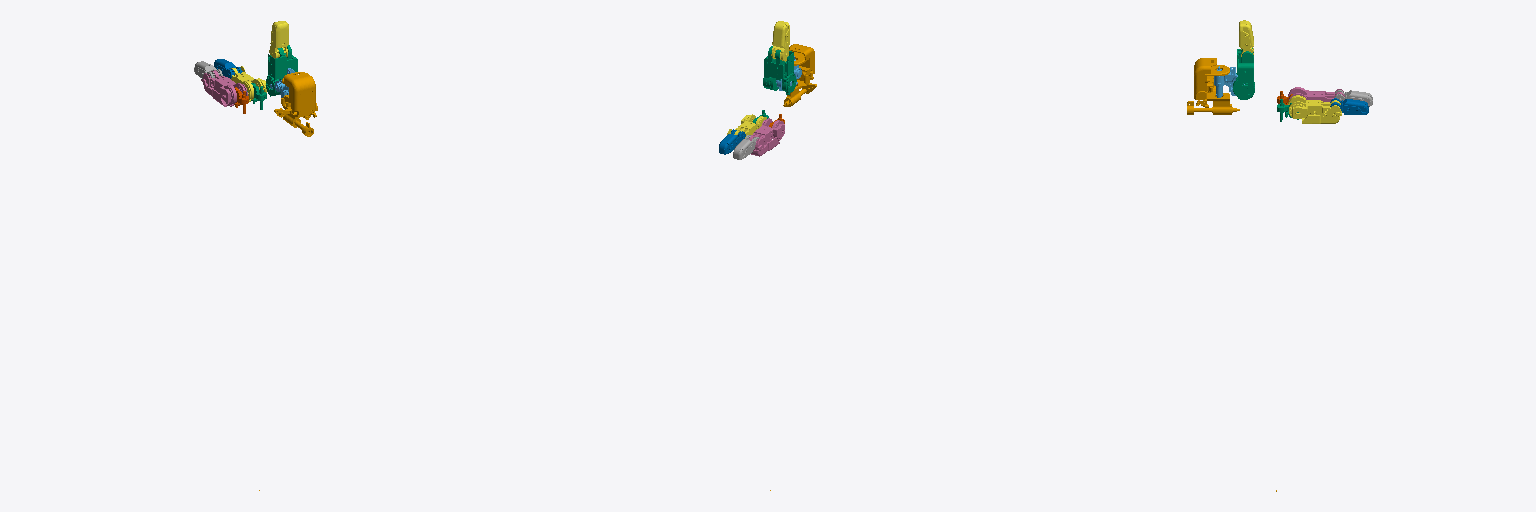
The robot description file, URDF, robot "hand_robot":
<?xml version="1.0" ?>

<robot name="hand_robot">

  <link name="base_link">
    <visual>
      <origin rpy="0 0 0" xyz="0 0 -0.5"/>
      <geometry>
        <box size="0.001 0.001 0.001"/>
      </geometry>
    </visual>
    <collision>
      <origin rpy="0 0 0" xyz="0 0 -0.5"/>
      <geometry>
        <box size="0.001 0.001 0.001"/>
      </geometry>
    </collision>
    <inertial>
      <mass value="1.0"/>
      <inertia ixx="10" ixy="0" ixz="0" iyy="10" iyz="0" izz="10"/>
    </inertial>
  </link>
  <joint name="hand_joint" type="fixed">
    <origin rpy="0 0 -1.57" xyz="0 -0.07 0.0"/>
    <parent link="base_link"/>
    <child link="hand_base_link"/>
  </joint>

  <!-- Base link -->
  <link name="hand_base_link">
    <visual>
      <origin rpy="0 0 0" xyz="0 0 0"/>
      <geometry>
        <mesh filename="package://wbr_description/meshes/hand/R_hand.STL" scale="0.001 0.001 0.001"/>
      </geometry>
      <material name="black">
        <color rgba="0.7 0.7 0.7 1"/>
      </material>
    </visual>
    <collision>
      <origin rpy="0 0 0" xyz="0 0 0"/>
      <geometry>
        <mesh filename="package://wbr_description/meshes/hand/R_hand.stl" scale="0.0007 0.0007 0.0007"/>
      </geometry>
    </collision>
    <inertial>
      <origin rpy="0 0 0" xyz="0 0 0"/>
      <mass value="0.25"/>
      <inertia ixx="10" ixy="0" ixz="0" iyy="10" iyz="0" izz="10"/>
    </inertial>
  </link>

  <!-- Index finger -->
  <link name="index_finger_1">
    <visual>
      <origin rpy="0 0 0" xyz="0 0 0"/>
      <geometry>
        <mesh filename="package://wbr_description/meshes/hand/R_first_finger_F3.STL" scale="0.001 0.001 0.001"/>
      </geometry>
    </visual>
    <collision>
      <origin rpy="0 0 0" xyz="0 0 0"/>
      <geometry>
        <mesh filename="package://wbr_description/meshes/hand/R_first_finger_F3.stl" scale="0.001 0.001 0.001"/>
      </geometry>
    </collision>
    <inertial>
      <origin rpy="0 0 0" xyz="0 0 0"/>
      <mass value="0.05"/>
      <inertia ixx="10" ixy="0" ixz="0" iyy="10" iyz="0" izz="10"/>
    </inertial>
  </link>

  <joint name="index_joint_1" type="revolute">
    <parent link="hand_base_link"/>
    <child link="index_finger_1"/>
    <origin rpy="3.14 0 0" xyz="-0.076 0.0067 0.0175"/>
    <axis xyz="0 0 1"/>
    <limit lower="-0.174" upper="1.57" effort="1.0" velocity="1.0"/>
  </joint>

  <link name="index_finger_2">
    <visual>
      <origin rpy="0 0 0" xyz="0 0 0"/>
      <geometry>
        <mesh filename="package://wbr_description/meshes/hand/R_first_finger_F2.STL" scale="0.001 0.001 0.001"/>
      </geometry>
    </visual>
    <collision>
      <origin rpy="0 0 0" xyz="0 0 0"/>
      <geometry>
        <mesh filename="package://wbr_description/meshes/hand/R_first_finger_F2.stl" scale="0.001 0.001 0.001"/>
      </geometry>
    </collision>
    <inertial>
      <origin rpy="0 0 0" xyz="0 0 0"/>
      <mass value="0.03"/>
      <inertia ixx="10" ixy="0" ixz="0" iyy="10" iyz="0" izz="10"/>
    </inertial>
  </link>

  <joint name="index_joint_2" type="revolute">
    <parent link="index_finger_1"/>
    <child link="index_finger_2"/>
    <origin rpy="0 1.57 -1.57" xyz="-0.02 0 0"/>
    <axis xyz="0 0 1"/>
    <limit lower="-0.523" upper="1.57" effort="1.0" velocity="1.0"/>
  </joint>

  <link name="index_finger_3">
    <visual>
      <origin rpy="0 0 0" xyz="0 0 0"/>
      <geometry>
        <mesh filename="package://wbr_description/meshes/hand/R_first_finger_F1.STL" scale="0.001 0.001 0.001"/>
      </geometry>
    </visual>
    <collision>
      <origin rpy="0 0 0" xyz="0 0 0"/>
      <geometry>
        <mesh filename="package://wbr_description/meshes/hand/R_first_finger_F1.stl" scale="0.0007 0.0007 0.0007"/>
      </geometry>
    </collision>
    <inertial>
      <origin rpy="0 0 0" xyz="0 0 0"/>
      <mass value="0.03"/>
      <inertia ixx="10" ixy="0" ixz="0" iyy="10" iyz="0" izz="10"/>
    </inertial>
  </link>

  <joint name="index_joint_3" type="revolute">
    <parent link="index_finger_2"/>
    <child link="index_finger_3"/>
    <origin rpy="0 0 0" xyz="0.003 -0.0455 0"/>
    <axis xyz="0 0 1"/>
    <limit lower="0" upper="2.44" effort="1.0" velocity="1.0"/>
  </joint>

  <!-- Middle finger -->
  <link name="middle_finger_1">
    <visual>
      <origin rpy="0 0 0" xyz="0 0 0"/>
      <geometry>
        <mesh filename="package://wbr_description/meshes/hand/R_middle_finger_F3.STL" scale="0.001 0.001 0.001"/>
      </geometry>
    </visual>
    <collision>
      <origin rpy="0 0 0" xyz="0 0 0"/>
      <geometry>
        <mesh filename="package://wbr_description/meshes/hand/R_middle_finger_F3.stl" scale="0.001 0.001 0.001"/>
      </geometry>
    </collision>
    <inertial>
      <origin rpy="0 0 0" xyz="0 0 0"/>
      <mass value="0.05"/>
      <inertia ixx="10" ixy="0" ixz="0" iyy="10" iyz="0" izz="10"/>
    </inertial>
  </link>

  <joint name="middle_joint_1" type="revolute">
    <parent link="hand_base_link"/>
    <child link="middle_finger_1"/>
    <origin rpy="3.14 0 0" xyz="-0.076 -0.0173 0.0175"/>
    <axis xyz="0 0 1"/>
    <limit lower="-1.57" upper="0.174" effort="1.0" velocity="1.0"/>
  </joint>

  <link name="middle_finger_2">
    <visual>
      <origin rpy="0 0 0" xyz="0 0 0"/>
      <geometry>
        <mesh filename="package://wbr_description/meshes/hand/R_middle_finger_F2.STL" scale="0.001 0.001 0.001"/>
      </geometry>
    </visual>
    <collision>
      <origin rpy="0 0 0" xyz="0 0 0"/>
      <geometry>
        <mesh filename="package://wbr_description/meshes/hand/R_middle_finger_F2.stl" scale="0.001 0.001 0.001"/>
      </geometry>
    </collision>
    <inertial>
      <origin rpy="0 0 0" xyz="0 0 0"/>
      <mass value="0.03"/>
      <inertia ixx="10" ixy="0" ixz="0" iyy="10" iyz="0" izz="10"/>
    </inertial>
  </link>

  <joint name="middle_joint_2" type="revolute">
    <parent link="middle_finger_1"/>
    <child link="middle_finger_2"/>
    <origin rpy="0 1.57 -1.57" xyz="-0.02 0 0"/>
    <axis xyz="0 0 1"/>
    <limit lower="-0.523" upper="1.75" effort="1.0" velocity="1.0"/>
  </joint>

  <link name="middle_finger_3">
    <visual>
      <origin rpy="0 0 0" xyz="0 0 0"/>
      <geometry>
        <mesh filename="package://wbr_description/meshes/hand/R_middle_finger_F1.STL" scale="0.001 0.001 0.001"/>
      </geometry>
    </visual>
    <collision>
      <origin rpy="0 0 0" xyz="0 0 0"/>
      <geometry>
        <mesh filename="package://wbr_description/meshes/hand/R_middle_finger_F1.stl" scale="0.001 0.001 0.001"/>
      </geometry>
    </collision>
    <inertial>
      <origin rpy="0 0 0" xyz="0 0 0"/>
      <mass value="0.03"/>
      <inertia ixx="10" ixy="0" ixz="0" iyy="10" iyz="0" izz="10"/>
    </inertial>
  </link>

  <joint name="middle_joint_3" type="revolute">
    <parent link="middle_finger_2"/>
    <child link="middle_finger_3"/>
    <origin rpy="0 0 0" xyz="0.003 -0.0505 0"/>
    <axis xyz="0 0 1"/>
    <limit lower="0" upper="2.44" effort="1.0" velocity="1.0"/>
  </joint>

  <!-- Thumb -->
  <link name="thumb_1">
    <visual>
      <origin rpy="0 0 3.14" xyz="0 0 0"/>
      <geometry>
        <mesh filename="package://wbr_description/meshes/hand/R_thumb_F4.STL" scale="0.001 0.001 0.001"/>
      </geometry>
    </visual>
    <collision>
      <origin rpy="0 0 3.14" xyz="0 0 0"/>
      <geometry>
        <mesh filename="package://wbr_description/meshes/hand/R_thumb_F4.stl" scale="0.001 0.001 0.001"/>
      </geometry>
    </collision>
    <inertial>
      <origin rpy="0 0 0" xyz="0 0 0"/>
      <mass value="0.05"/>
      <inertia ixx="10" ixy="0" ixz="0" iyy="10" iyz="0" izz="10"/>
    </inertial>
  </link>

  <joint name="thumb_joint_1" type="revolute">
    <parent link="hand_base_link"/>
    <child link="thumb_1"/>
    <origin rpy="-1.57 0 -1.57" xyz="0 0.0067 0.015"/>
    <axis xyz="0 0 1"/>
    <limit lower="-1.57" upper="0" effort="1.0" velocity="1.0"/>
  </joint>

  <link name="thumb_2">
    <visual>
      <origin rpy="0 0 -1.57" xyz="0 0 0"/>
      <geometry>
        <mesh filename="package://wbr_description/meshes/hand/R_thumb_F3.STL" scale="0.001 0.001 0.001"/>
      </geometry>
    </visual>
    <collision>
      <origin rpy="0 0 -1.57" xyz="0 0 0"/>
      <geometry>
        <mesh filename="package://wbr_description/meshes/hand/R_thumb_F3.stl" scale="0.001 0.001 0.001"/>
      </geometry>
    </collision>
    <inertial>
      <origin rpy="0 0 0" xyz="0 0 0"/>
      <mass value="0.03"/>
      <inertia ixx="10" ixy="0" ixz="0" iyy="10" iyz="0" izz="10"/>
    </inertial>
  </link>

  <joint name="thumb_joint_2" type="revolute">
    <parent link="thumb_1"/>
    <child link="thumb_2"/>
    <origin rpy="0 1.57 -1.57" xyz="0 -0.03575 0"/>
    <axis xyz="0 0 1"/>
    <limit lower="-1.57" upper="1.57" effort="1.0" velocity="1.0"/>
  </joint>

  <link name="thumb_3">
    <visual>
      <origin rpy="0 0 0" xyz="0 0 0"/>
      <geometry>
        <mesh filename="package://wbr_description/meshes/hand/R_thumb_F2.STL" scale="0.001 0.001 0.001"/>
      </geometry>
    </visual>
    <collision>
      <origin rpy="0 0 0" xyz="0 0 0"/>
      <geometry>
        <mesh filename="package://wbr_description/meshes/hand/R_thumb_F2.stl" scale="0.001 0.001 0.001"/>
      </geometry>
    </collision>
    <inertial>
      <origin rpy="0 0 0" xyz="0 0 0"/>
      <mass value="0.03"/>
      <inertia ixx="10" ixy="0" ixz="0" iyy="10" iyz="0" izz="10"/>
    </inertial>
  </link>

  <joint name="thumb_joint_3" type="revolute">
    <parent link="thumb_2"/>
    <child link="thumb_3"/>
    <origin rpy="-1.57 0 0" xyz="0.03 0 0"/>
    <axis xyz="0 0 1"/>
    <limit lower="0" upper="3.14" effort="1.0" velocity="1.0"/>
  </joint>

  <link name="thumb_4">
    <visual>
      <origin rpy="0 0 0" xyz="0 0 0"/>
      <geometry>
        <mesh filename="package://wbr_description/meshes/hand/R_thumb_F1.STL" scale="0.001 0.001 0.001"/>
      </geometry>
    </visual>
    <collision>
      <origin rpy="0 0 0" xyz="0 0 0"/>
      <geometry>
        <mesh filename="package://wbr_description/meshes/hand/R_thumb_F1.stl" scale="0.0007 0.0007 0.0007"/>
      </geometry>
    </collision>
    <inertial>
      <origin rpy="0 0 0" xyz="0 0 0"/>
      <mass value="0.03"/>
      <inertia ixx="10" ixy="0" ixz="0" iyy="10" iyz="0" izz="10"/>
    </inertial>
  </link>

  <joint name="thumb_joint_4" type="revolute">
    <parent link="thumb_3"/>
    <child link="thumb_4"/>
    <origin rpy="0 0 0" xyz="0.0045 -0.04 0"/>
    <axis xyz="0 0 1"/>
    <limit lower="0" upper="1.57" effort="1.0" velocity="1.0"/>
  </joint>
  
  
  <link name="thumb_tip">
    <inertial>
      <origin rpy="0 0 0" xyz="0 0 0"/>
      <mass value="0.03"/>
      <inertia ixx="10" ixy="0" ixz="0" iyy="10" iyz="0" izz="10"/>
    </inertial>
  </link>

  <joint name="thumb_tip_joint" type="fixed">
    <parent link="thumb_4"/>
    <child link="thumb_tip"/>
    <origin rpy="1.570 0 0" xyz="0.0045 -0.04 0"/>
    <axis xyz="1 1 1"/>
    <!-- <limit lower="0" upper="1.57" effort="1.0" velocity="1.0"/> -->
  </joint>
  
  <link name="index_tip">
    <inertial>
      <origin rpy="0 0 0" xyz="0 0 0"/>
      <mass value="0.03"/>
      <inertia ixx="10" ixy="0" ixz="0" iyy="10" iyz="0" izz="10"/>
    </inertial>
  </link>

  <joint name="index_tip_joint" type="fixed">
    <parent link="index_finger_3"/>
    <child link="index_tip"/>
    <origin rpy="-1.57 -1.57 -1.57" xyz="0.005 -0.03 0"/>
    <!-- <axis xyz="1 1 1"/> -->
    <!-- <limit lower="0" upper="1.57" effort="1.0" velocity="1.0"/> -->
  </joint>

</robot>

--- Render facts (derived) ---
Views: 3 orthographic renders of the robot side by side, from view 1: azimuth 30°, elevation 25°; view 2: azimuth 150°, elevation 25°; view 3: azimuth 270°, elevation 25°.
Model hand_robot with 14 links and 13 joints (10 revolute, 3 fixed), rooted at base_link, posed every joint at zero.
Visible links, largest first — view 1: thumb_1, middle_finger_2, thumb_3, thumb_4; view 2: thumb_3, thumb_1, middle_finger_2, thumb_4; view 3: thumb_1, index_finger_2, thumb_3.
Link boxes in pixels (x1,y1,x2,y2): thumb_1: [274, 72, 317, 136]; middle_finger_2: [201, 70, 247, 106]; thumb_3: [266, 45, 297, 96]; thumb_4: [269, 21, 288, 58]; thumb_3: [763, 46, 796, 94]; thumb_1: [783, 44, 816, 106]; middle_finger_2: [749, 118, 784, 156]; thumb_4: [771, 21, 789, 61]; thumb_1: [1187, 58, 1239, 114]; index_finger_2: [1288, 95, 1341, 123]; thumb_3: [1233, 48, 1254, 99].
Size in the robot's own frame: 0.0615 by 0.2257 by 0.6331 metres.
Meshes: 11 distinct files referenced, 10 mesh visuals loaded (10 binary STL); not drawn: 1 (reference not matched to a file when rendering).
